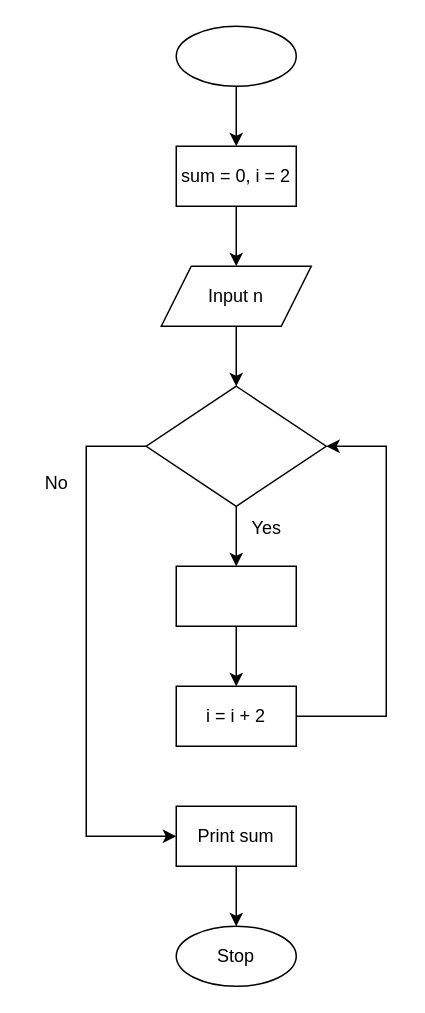
Some shapes in this 425 by 1013 pixel diagram are drawn without their labels. Each missing label, with the centre of its shape:
is i <= n?: (x=235, y=445)
Start: (x=235, y=55)
sum = sum + i: (x=235, y=595)
